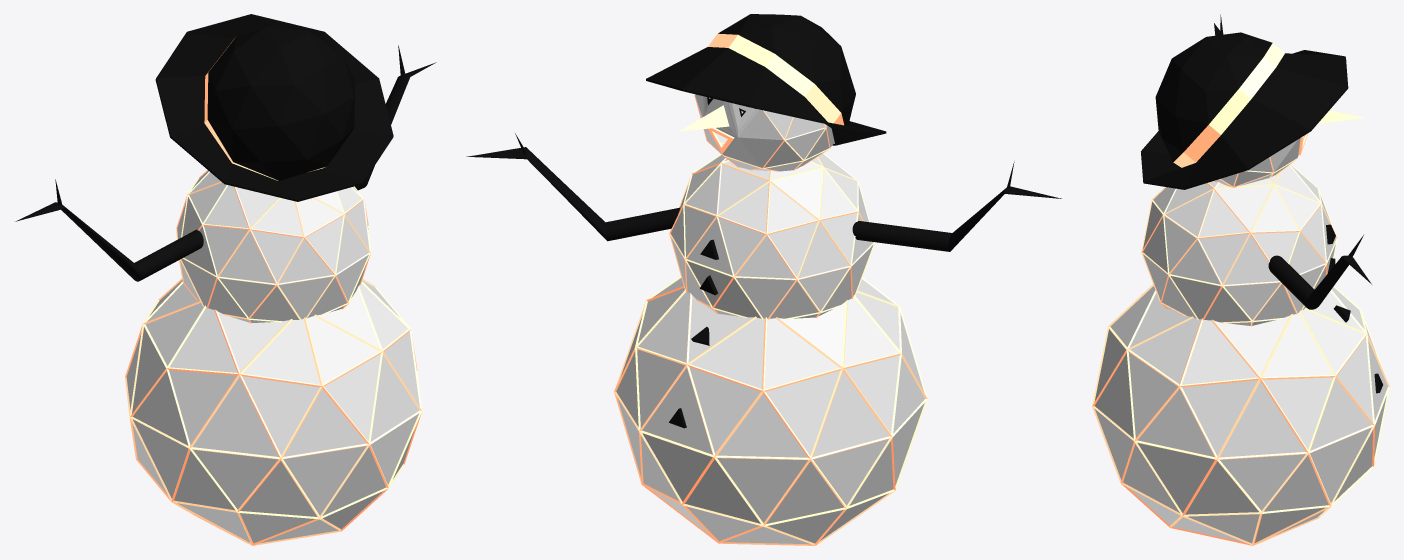
The model's file is Snowman.glb.
3 views of the same model, side by side, from view 1: azimuth 30°, elevation 25°; view 2: azimuth 150°, elevation 25°; view 3: azimuth 270°, elevation 25° (orthographic). The views are drawn at different scales.
Visible parts, largest first — view 1: bottom_12, heat_10, top_13, hands_14, hands.001_15; view 2: bottom_12, top_13, heat_10, head_5, hands.001_15, hands_14, heat_ring_11; view 3: bottom_12, top_13, heat_10, heat_ring_11, hands.001_15, head_5.
Part boxes in pixels (x1,y1,x2,y2): bottom_12: [125, 278, 422, 545]; heat_10: [155, 14, 393, 201]; top_13: [176, 170, 370, 323]; hands_14: [15, 179, 203, 281]; hands.001_15: [355, 45, 436, 190]; bottom_12: [614, 276, 927, 545]; top_13: [669, 153, 875, 319]; heat_10: [646, 14, 886, 145]; head_5: [694, 94, 834, 171]; hands.001_15: [466, 133, 679, 241]; hands_14: [852, 162, 1061, 251]; heat_ring_11: [708, 33, 843, 143]; bottom_12: [1092, 284, 1389, 545]; top_13: [1141, 164, 1337, 326]; heat_10: [1141, 32, 1348, 189]; heat_ring_11: [1173, 43, 1284, 167]; hands.001_15: [1268, 235, 1371, 309]; head_5: [1214, 133, 1307, 187].
Size of the model in its own units: 9.18 by 8.79 by 4.8.
